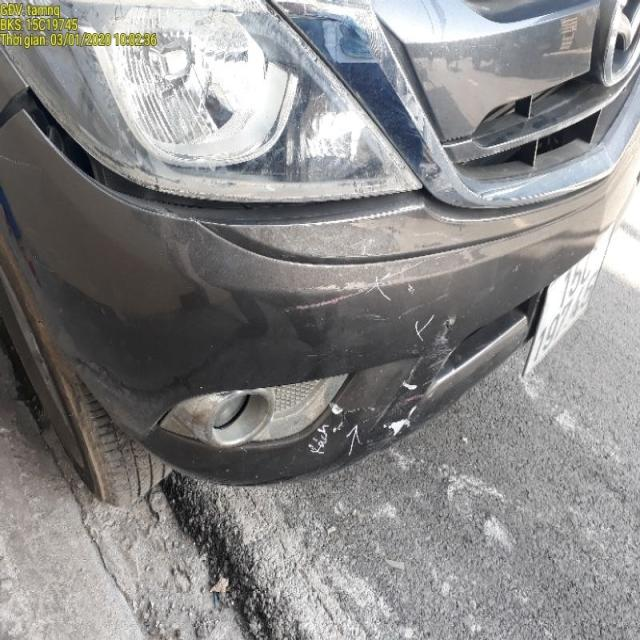Dechirure: (10, 84, 113, 203)
Phare abime: (92, 17, 270, 187)
Rayure: (274, 241, 441, 320), (370, 323, 458, 453)
